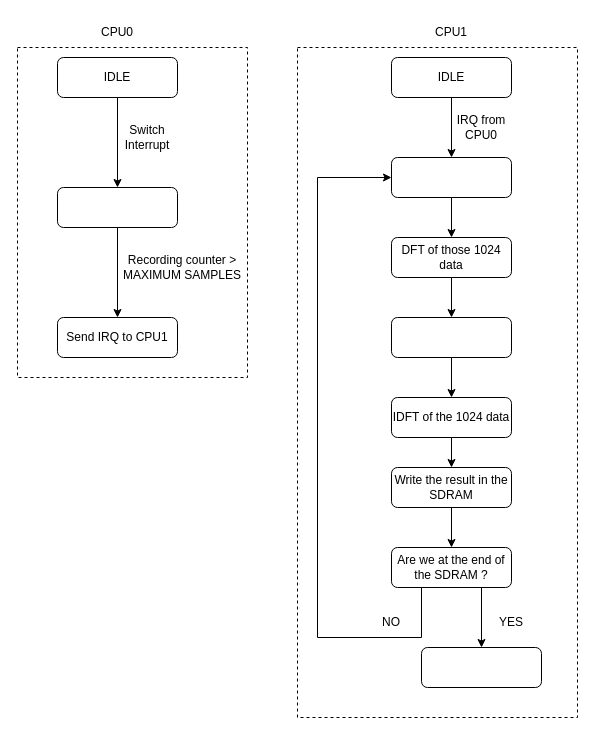
Some shapes in this 595 by 735 pixel diagram are drawn without their labels. The shapes that lost their labels are listed below. From the top down, each one's centre as x and y in pixels, then its label:
pixel 451 177: Read 1024 data from sdram
pixel 117 207: Recording of the mic into SDRAM
pixel 451 337: Low pass filter
pixel 481 667: Listen to the audio
